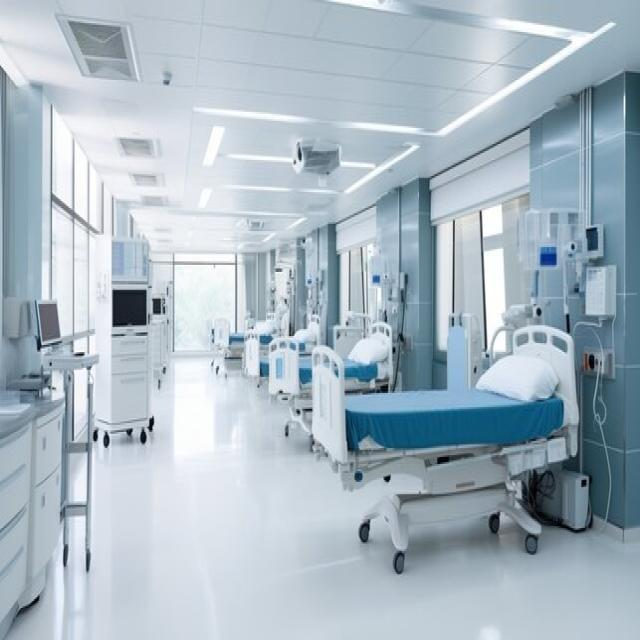Monitor: (108, 271, 152, 344), (33, 295, 69, 355)
bed: (310, 322, 580, 572), (268, 311, 393, 452)
